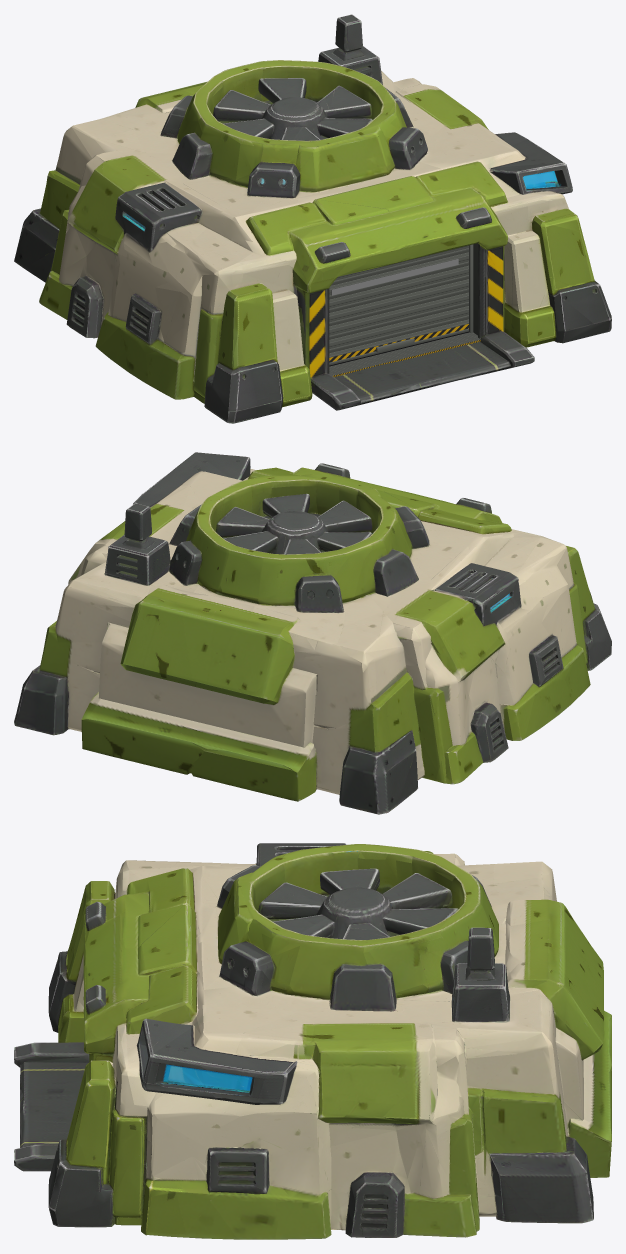
Rendered from vehicle_factory_Gate.glb.
3 views of the same model, one above another, from view 1: azimuth 30°, elevation 25°; view 2: azimuth 150°, elevation 25°; view 3: azimuth 270°, elevation 25° (orthographic). The views are drawn at different scales.
Visible parts, largest first — view 1: vehicle_factory_Body, gate_hall, gate_slat_02, gate_slat_03, gate_slat_05, gate_slat_01, gate_slat_04, gate_slat_00, gate_slat_06; view 2: vehicle_factory_Body; view 3: vehicle_factory_Body.
Boxes of the visible parts, x1,y1,x2,y2 form: vehicle_factory_Body: (14,14,611,423); gate_hall: (329,243,480,377); gate_slat_02: (329,292,468,339); gate_slat_03: (329,279,468,326); gate_slat_05: (329,252,468,299); gate_slat_01: (329,306,468,353); gate_slat_04: (329,265,468,312); gate_slat_00: (329,319,468,366); gate_slat_06: (331,245,468,285); vehicle_factory_Body: (14,452,611,814); vehicle_factory_Body: (14,843,611,1239).
Bounding box in the file's own units: 1.9 × 0.8571 × 1.9.
4 materials, 3 textured.
